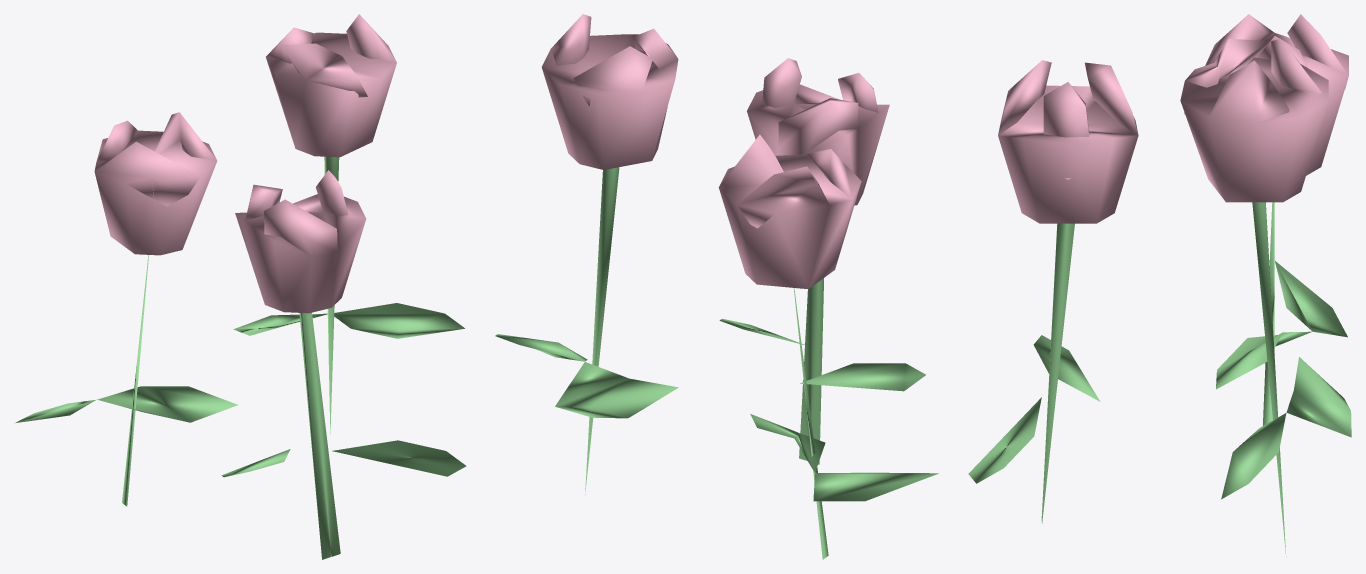
Rendered from flower_0_spring_low.glb.
3 renders of one model, left to right at view 1: azimuth 30°, elevation 25°; view 2: azimuth 150°, elevation 25°; view 3: azimuth 270°, elevation 25°, orthographic. The views are drawn at different scales.
Bounding box in the file's own units: 0.5021 × 0.5025 × 0.3292.
